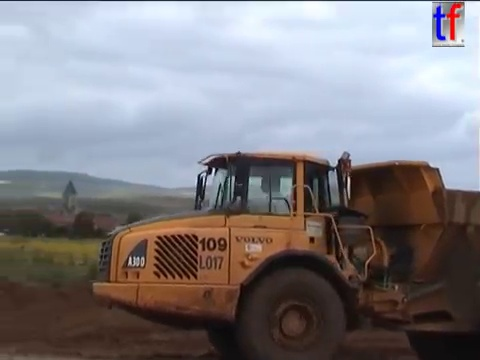truck: (84, 147, 480, 360)
